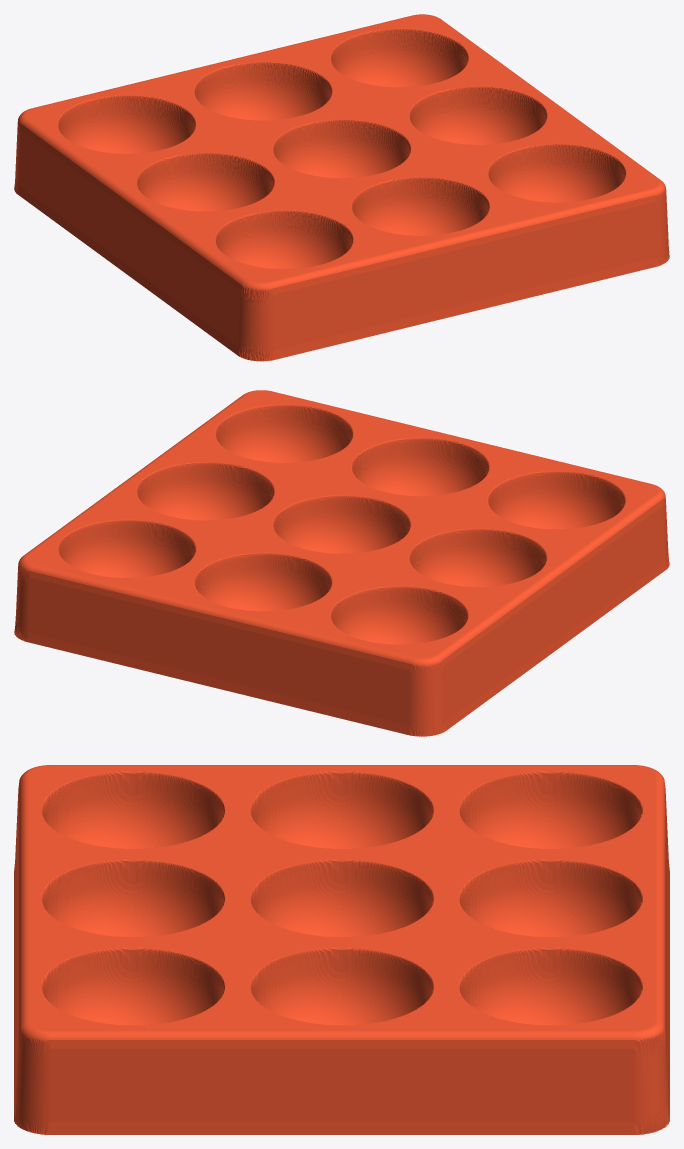
Rendered from mold.glb.
The picture shows the model from 3 angles, top to bottom: view 1: azimuth 30°, elevation 25°; view 2: azimuth 150°, elevation 25°; view 3: azimuth 270°, elevation 25°; orthographic projection. The views are drawn at different scales.
Parts seen in each view (by area): view 1: geometry_0; view 2: geometry_0; view 3: geometry_0.
Boxes of the visible parts, bbox=[...] form: geometry_0: bbox=[14, 14, 669, 361]; geometry_0: bbox=[14, 390, 669, 736]; geometry_0: bbox=[14, 765, 669, 1134].
Bounding box in the file's own units: 0.1621 × 0.0267 × 0.1621.
